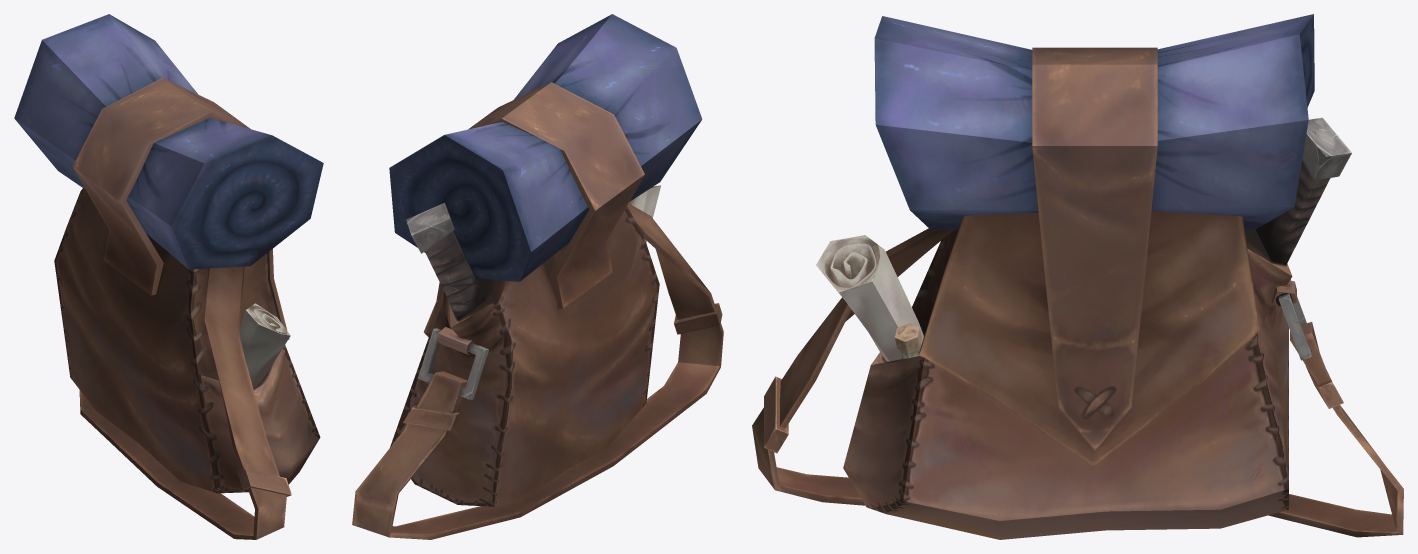
Rendered from stylised_bag.fbx.
3 renders of one model, left to right at view 1: azimuth 30°, elevation 25°; view 2: azimuth 150°, elevation 25°; view 3: azimuth 270°, elevation 25°, orthographic. The views are drawn at different scales.
Parts seen in each view (by area): view 1: node_abe26516_de91_4e3e_876e_e69265e3a80f_mesh0; view 2: node_abe26516_de91_4e3e_876e_e69265e3a80f_mesh0; view 3: node_abe26516_de91_4e3e_876e_e69265e3a80f_mesh0.
Boxes of the visible parts, bbox=[...] form: node_abe26516_de91_4e3e_876e_e69265e3a80f_mesh0: bbox=[14, 14, 323, 539]; node_abe26516_de91_4e3e_876e_e69265e3a80f_mesh0: bbox=[352, 14, 723, 539]; node_abe26516_de91_4e3e_876e_e69265e3a80f_mesh0: bbox=[752, 14, 1403, 539].
Bounding box in the file's own units: 1970 × 4705 × 5560.
1 material, 1 textured.
